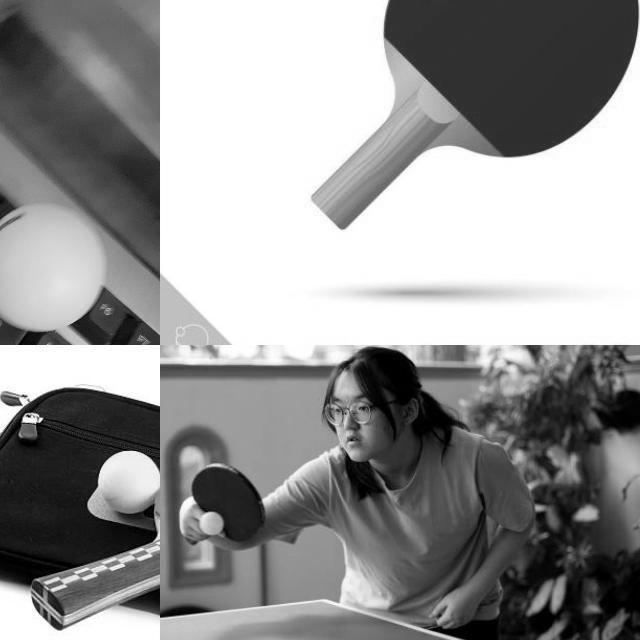ping-pong-ball: (0, 205, 100, 329), (98, 449, 156, 516), (200, 511, 222, 535)
